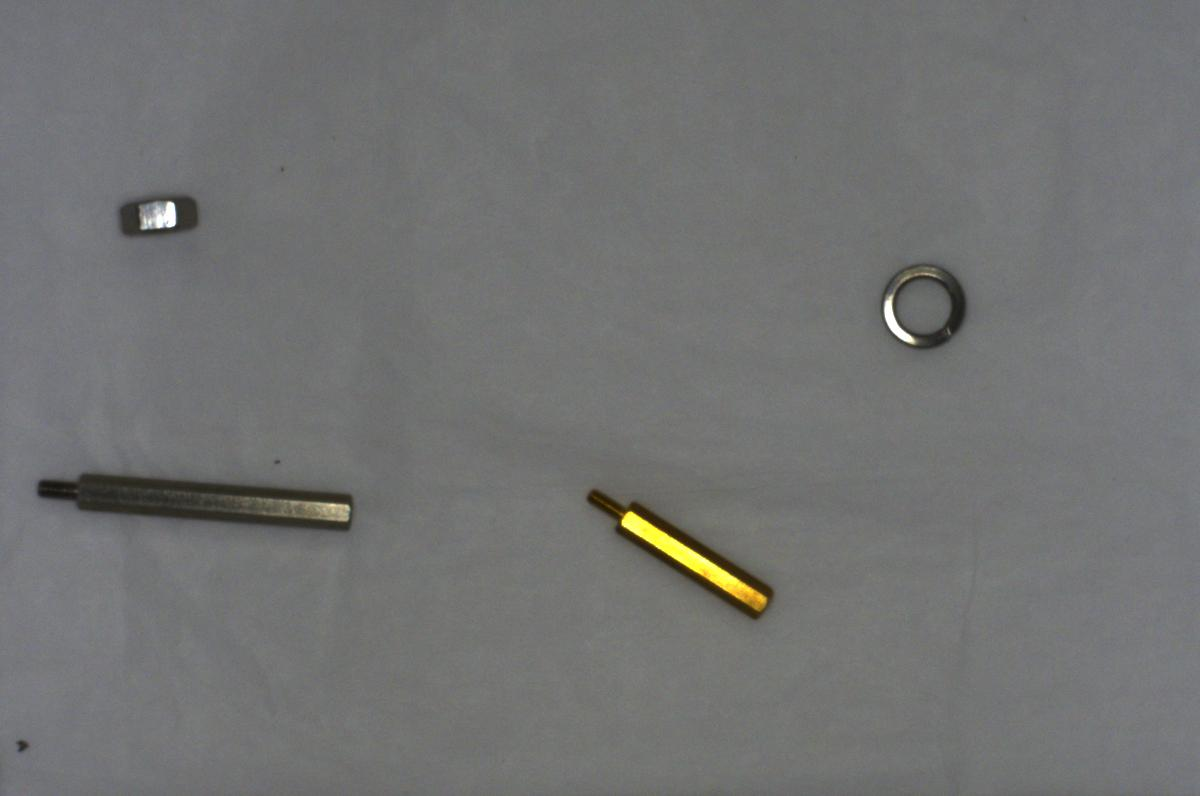Hexagon nut: (114, 185, 206, 242)
Hexagon pillar: (574, 482, 785, 620)
Hexagonal steel column: (33, 459, 355, 541)
Spring washer: (872, 256, 979, 367)
